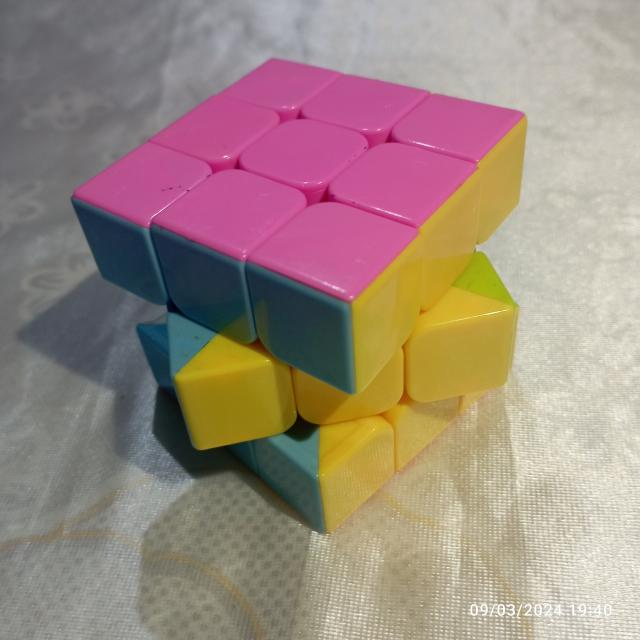Rub: (69, 54, 532, 537)
